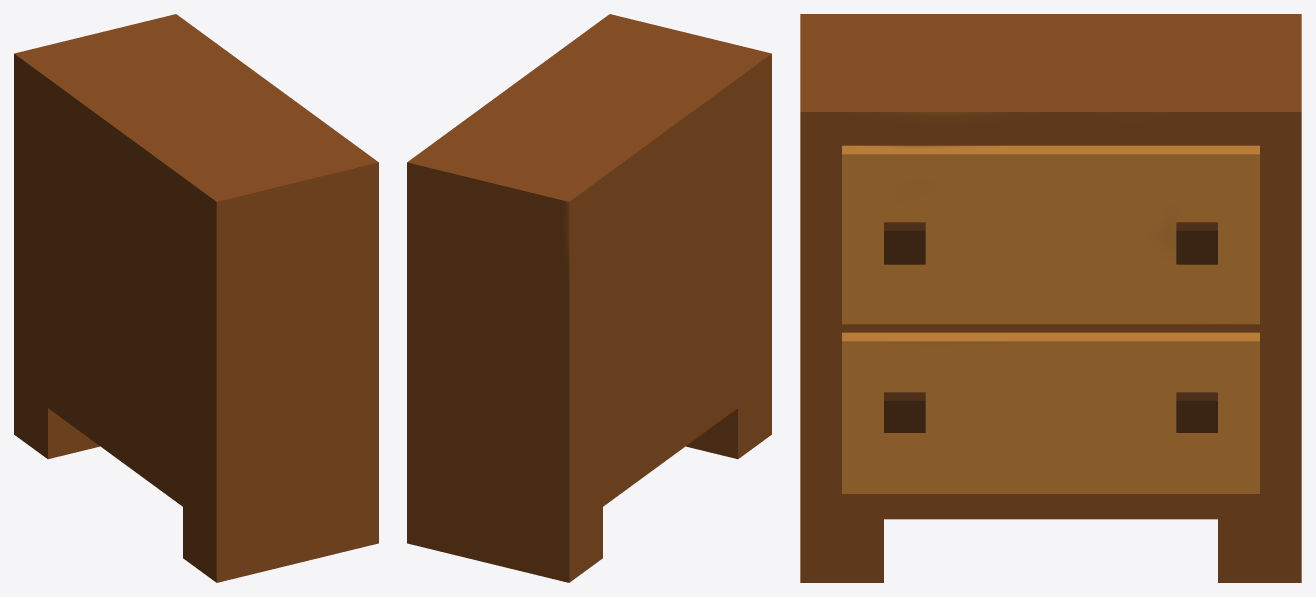
Rendered from drawers.fbx.
The picture shows the model from 3 angles, left to right: view 1: azimuth 30°, elevation 25°; view 2: azimuth 150°, elevation 25°; view 3: azimuth 270°, elevation 25°; orthographic projection. The views are drawn at different scales.
Parts seen in each view (by area): view 1: Cube; view 2: Cube; view 3: Cube.
Boxes of the visible parts, <box> form: Cube: <box>14,14,378,582</box>; Cube: <box>407,14,771,582</box>; Cube: <box>800,14,1301,582</box>.
Bounding box in the file's own units: 235 × 449 × 433.
